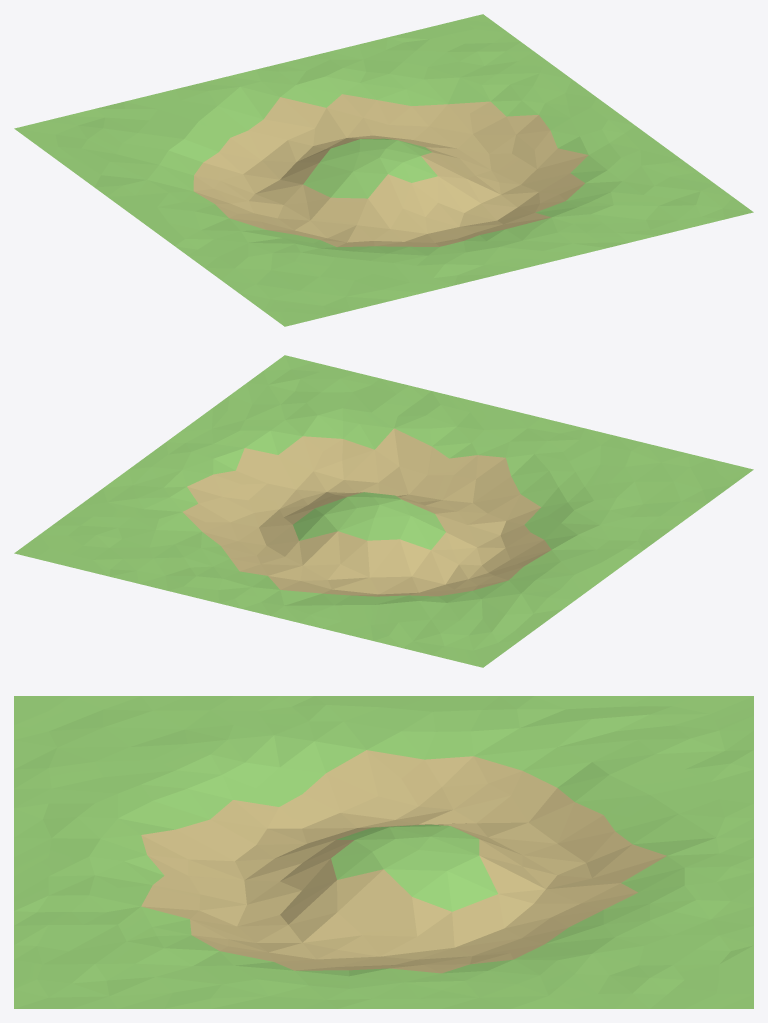
Rendered from terrain002.fbx.
3 renders of one model, top to bottom at view 1: azimuth 30°, elevation 25°; view 2: azimuth 150°, elevation 25°; view 3: azimuth 270°, elevation 25°, orthographic. The views are drawn at different scales.
Parts seen in each view (by area): view 1: CPT_Terrain_M_d_10; view 2: CPT_Terrain_M_d_10; view 3: CPT_Terrain_M_d_10.
Part boxes in pixels (left/top/right/bottom): CPT_Terrain_M_d_10: left=14, top=14, right=753, bottom=326; CPT_Terrain_M_d_10: left=14, top=355, right=753, bottom=667; CPT_Terrain_M_d_10: left=14, top=696, right=753, bottom=1008.
Bounding box in the file's own units: 5000 × 5000 × 366.
Materials: 1 (1 with a texture image).
